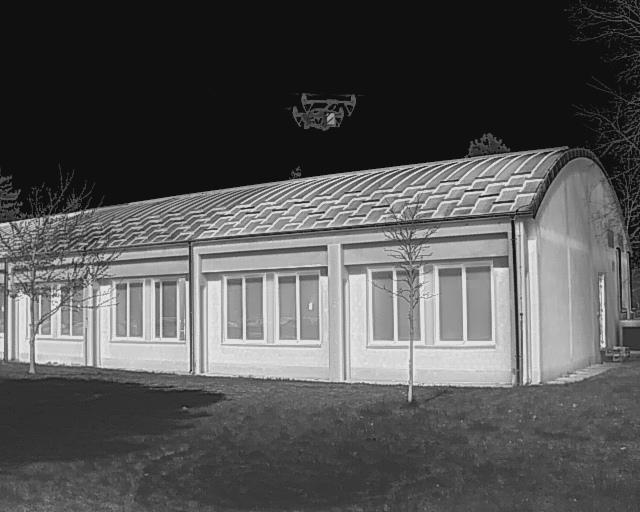drone: (279, 83, 367, 144)
